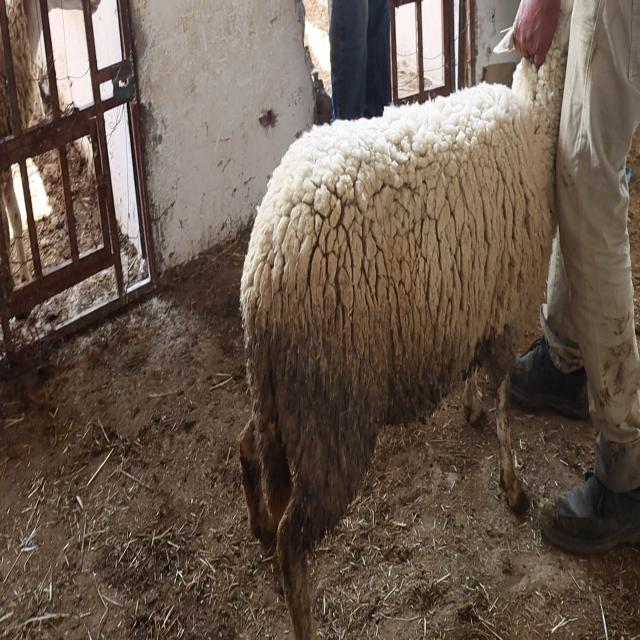Score_3: (240, 25, 564, 639)
